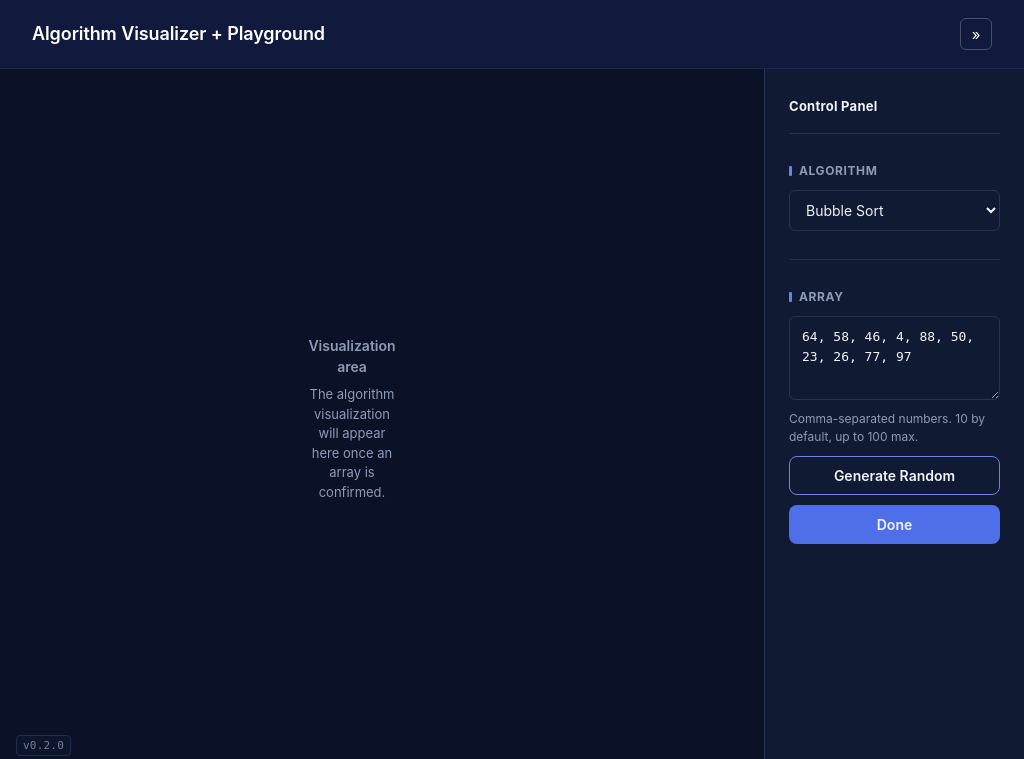
Test: Sidebar toggle — does not reset the visualization session › Next/Previous/Reset still work correctly after the sidebar has been hidden and shown
Replace the text in the text box labelled "Array" with "8, 3, 5, 1" at x=894, y=358, box 789,316 -> 1000,400
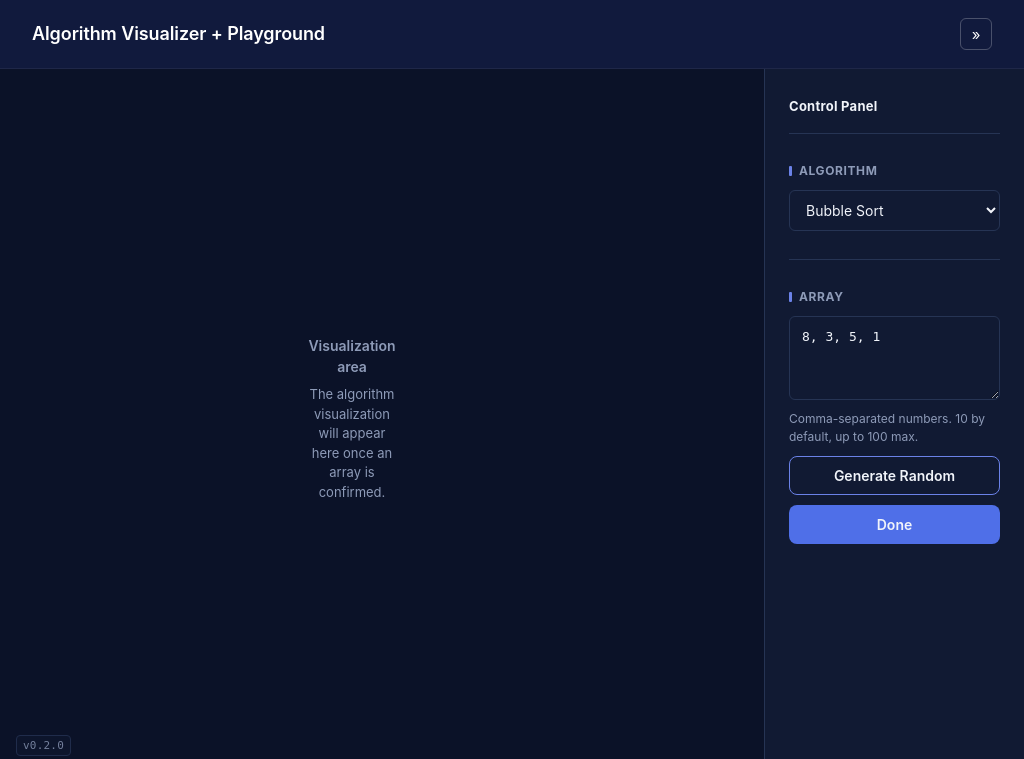
Click the button "Done" at x=894, y=524, box 789,505 -> 1000,544
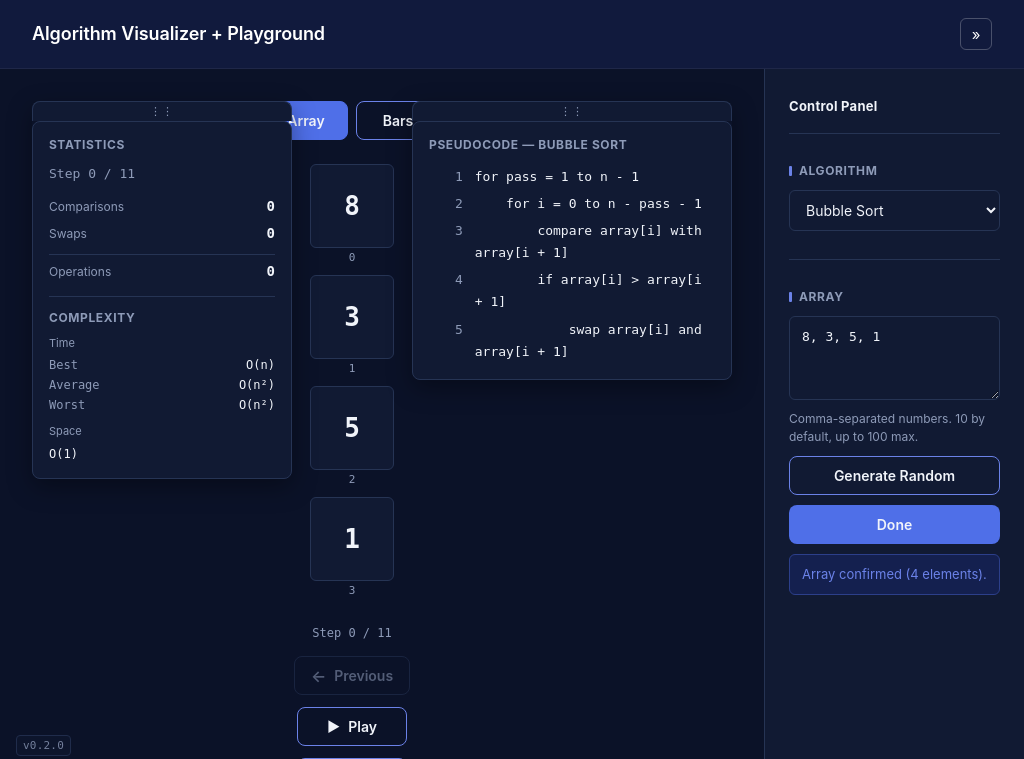
Click the button named "control panel" at x=976, y=34, box 960,18 -> 992,50
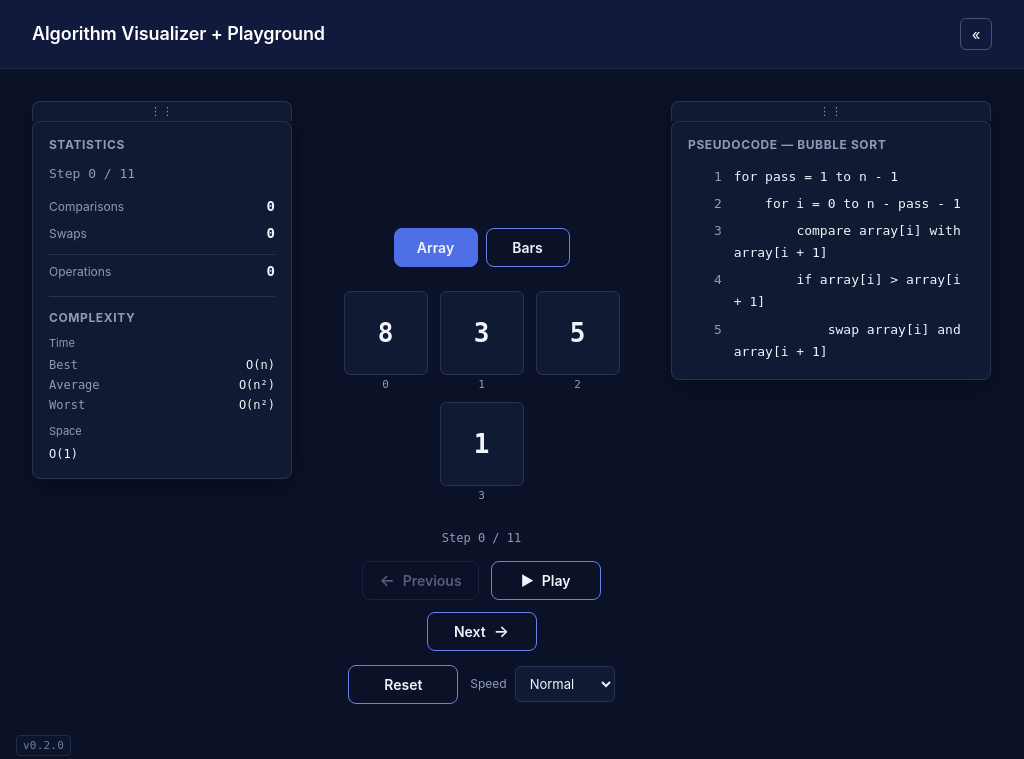
Click the button named "control panel" at x=976, y=34, box 960,18 -> 992,50
(page scrolled)
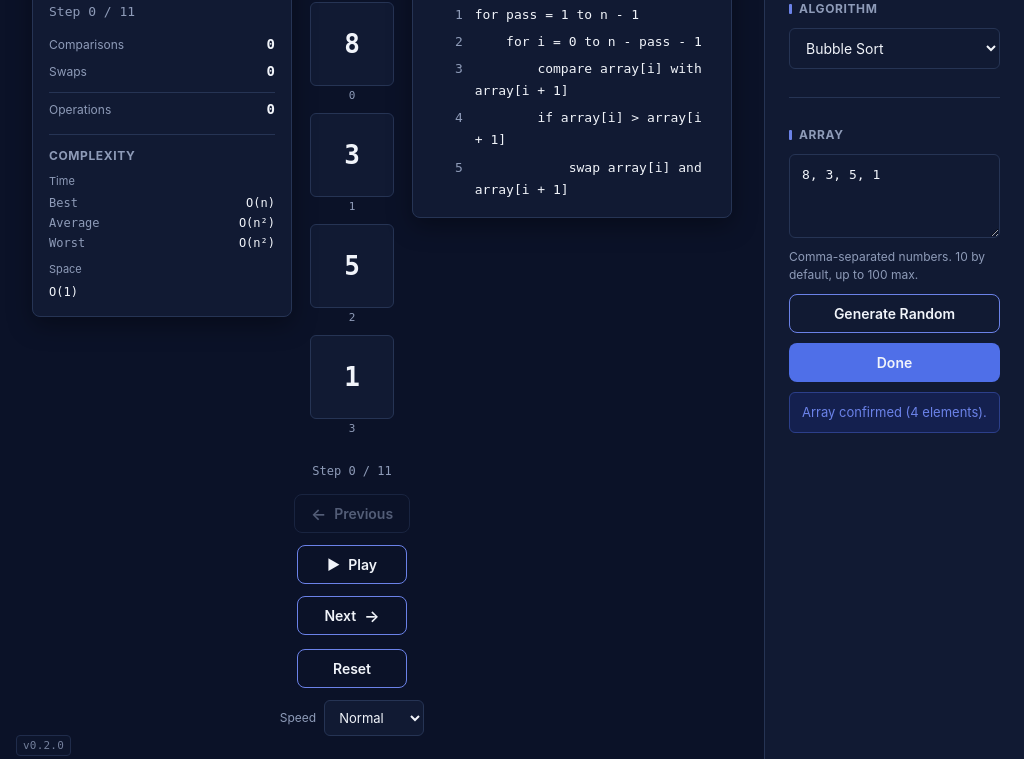
Click the button "Next →" at x=352, y=616, box 297,596 -> 407,635
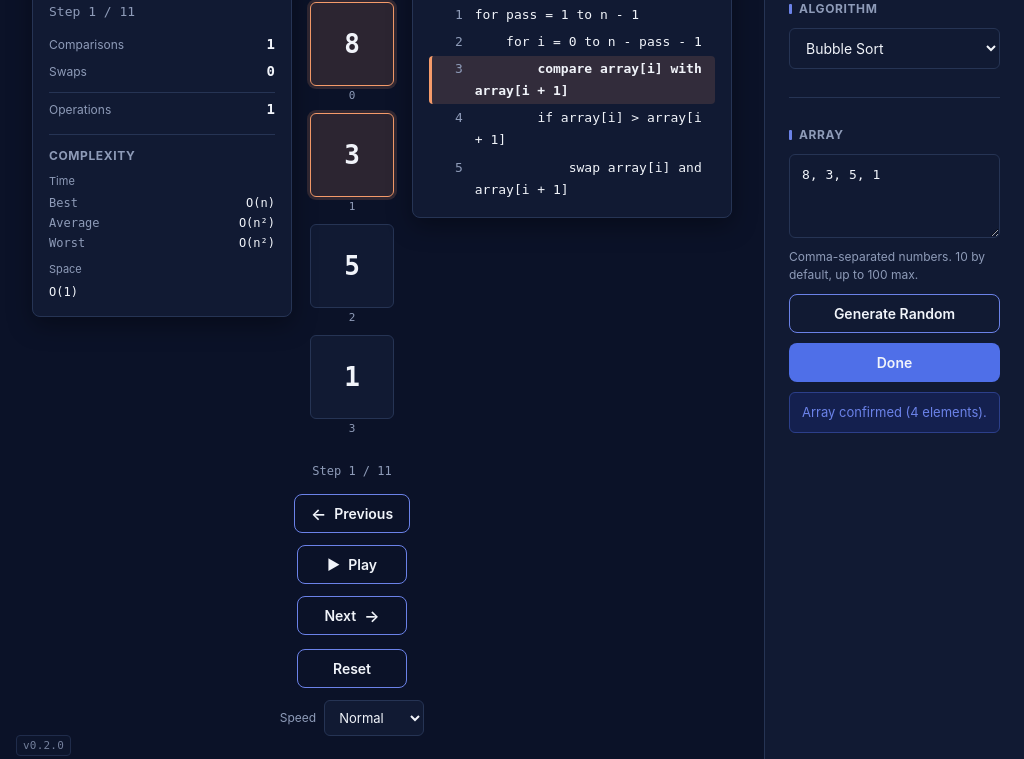
Click the button "Next →" at x=352, y=616, box 297,596 -> 407,635
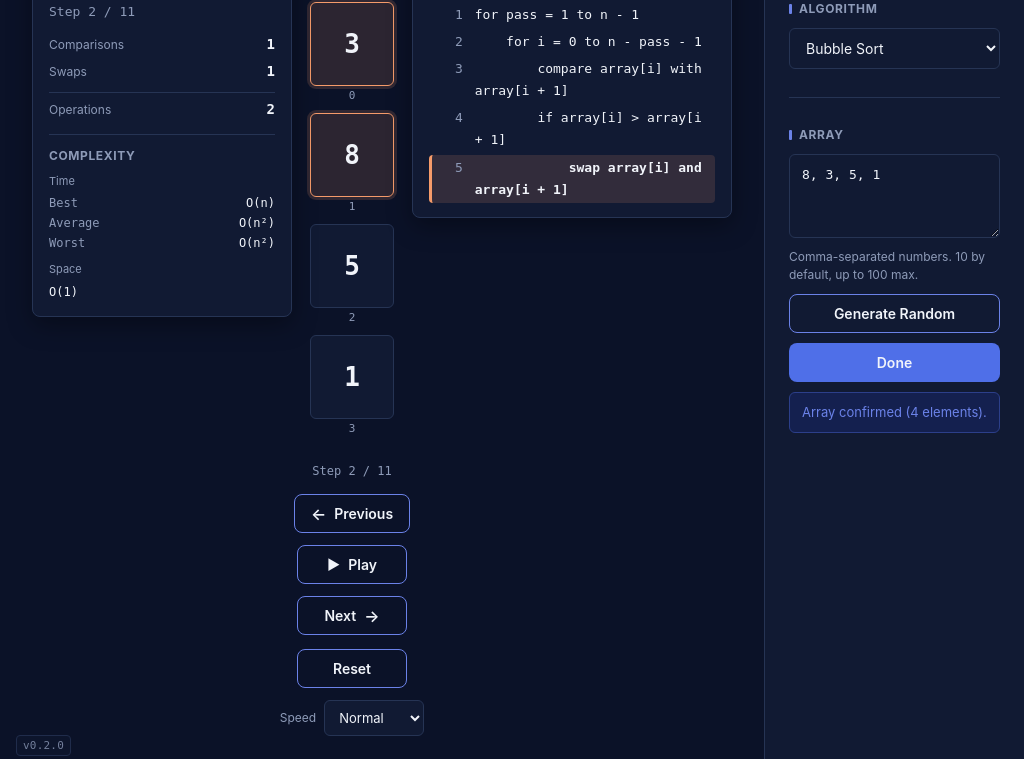
Expected: the text "Step 2 / 11" below "Statistics" is shown, 49,4 -> 135,19
